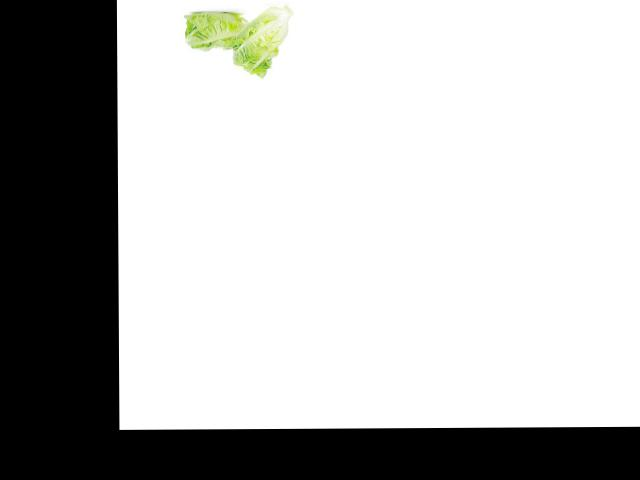lettuce: (224, 0, 294, 75)
